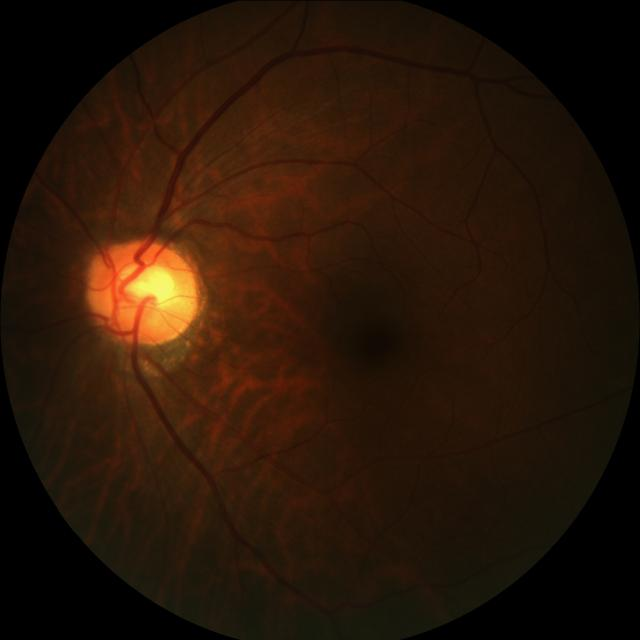OC: (116, 260, 181, 307)
OD: (88, 239, 204, 346)
